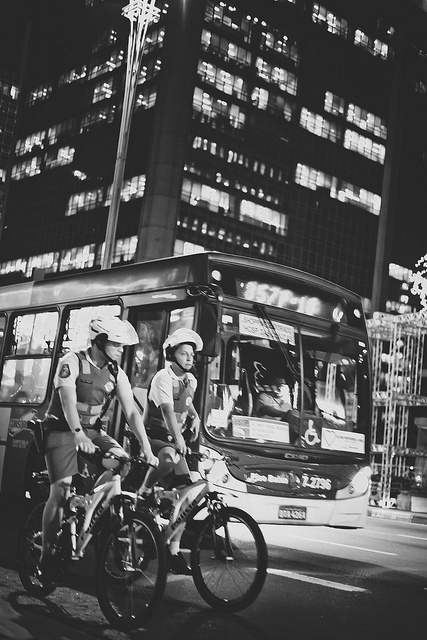non-vehicle: (15, 449, 165, 630), (126, 451, 268, 612)
